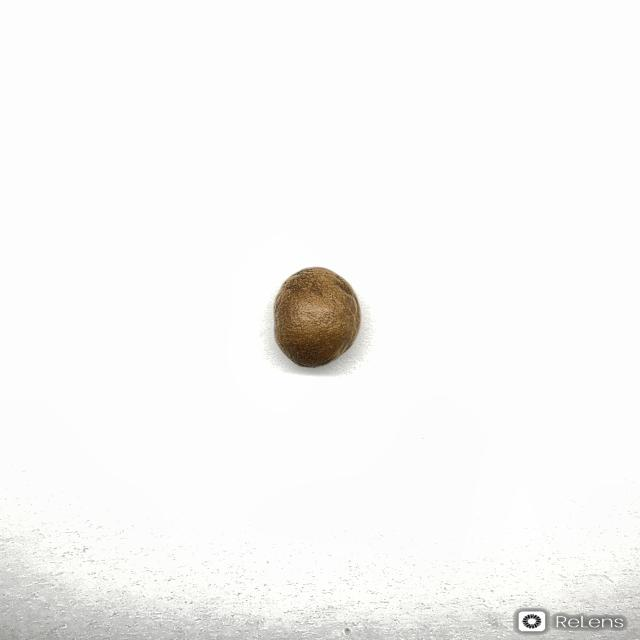Good bean: (272, 266, 361, 368)
